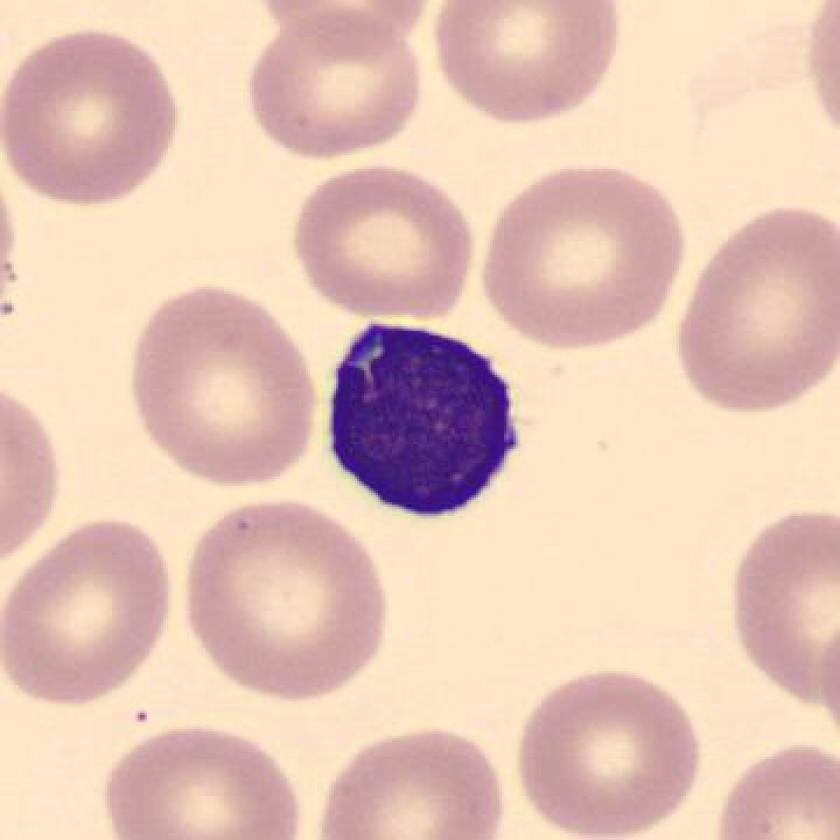lymphocyte: (312, 304, 529, 543)
